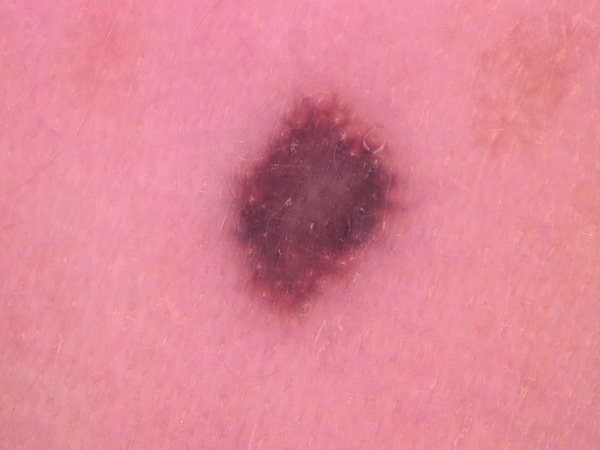Detected Lesion: (218, 87, 407, 323)
